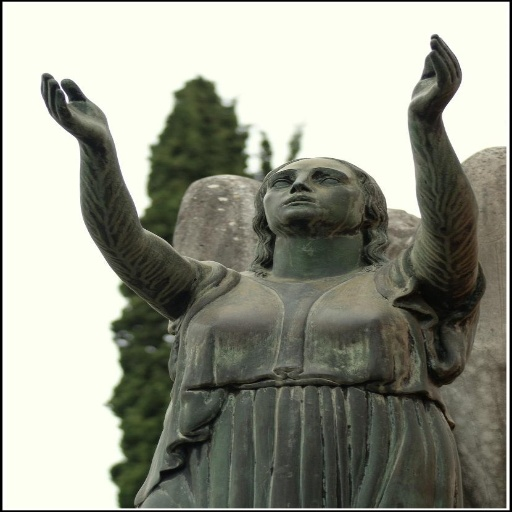hand: (35, 72, 110, 144), (400, 31, 458, 111)
